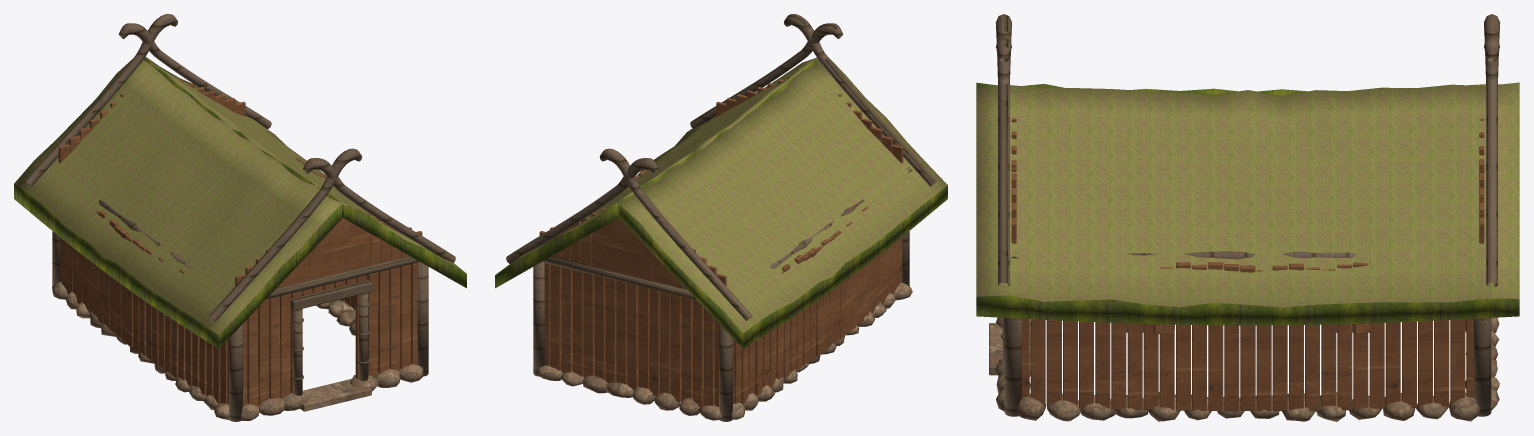
The model's file is casa.glb.
3 views of the same model, side by side, from view 1: azimuth 30°, elevation 25°; view 2: azimuth 150°, elevation 25°; view 3: azimuth 270°, elevation 25° (orthographic). The views are drawn at different scales.
Parts seen in each view (by area): view 1: casa; view 2: casa; view 3: casa.
Part boxes in pixels (x1,y1,x2,y2): casa: (14,14,466,421); casa: (495,14,947,421); casa: (976,14,1519,421).
Bounding box in the file's own units: 4.54 × 4.39 × 6.5.
5 materials, 5 textured.
